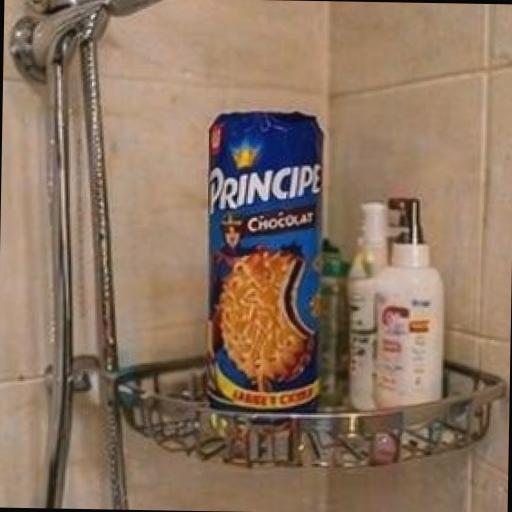prince: (107, 64, 440, 512)
